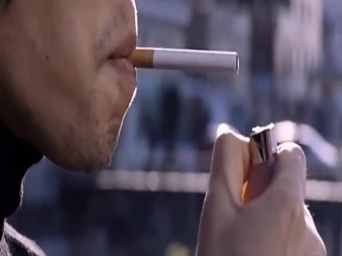smoke: (133, 44, 239, 72)
